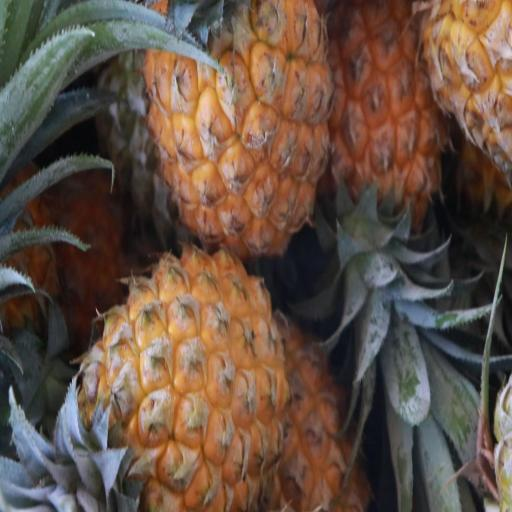Pineapple - v8 v1: (70, 253, 287, 512), (149, 0, 330, 259), (328, 0, 457, 247)
